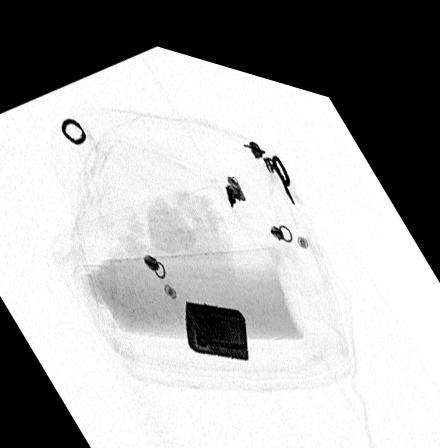Lighter: (184, 288, 248, 345)
